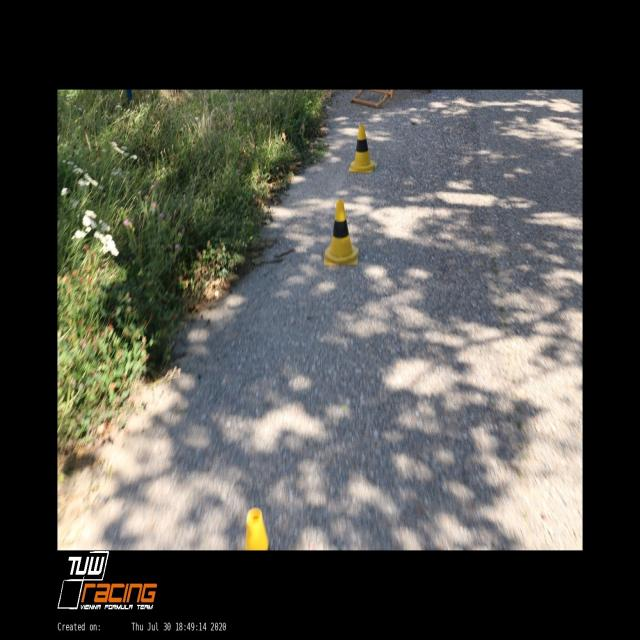yellow_cone: (323, 199, 359, 267), (349, 124, 377, 173), (244, 508, 270, 550)
